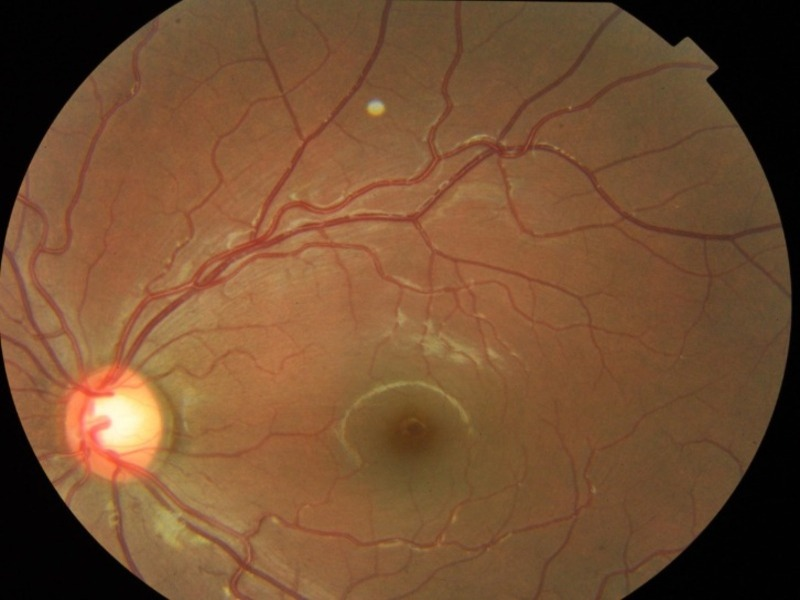Cup Disc: (65, 364, 162, 480)
Optic Cup: (94, 398, 141, 449)
